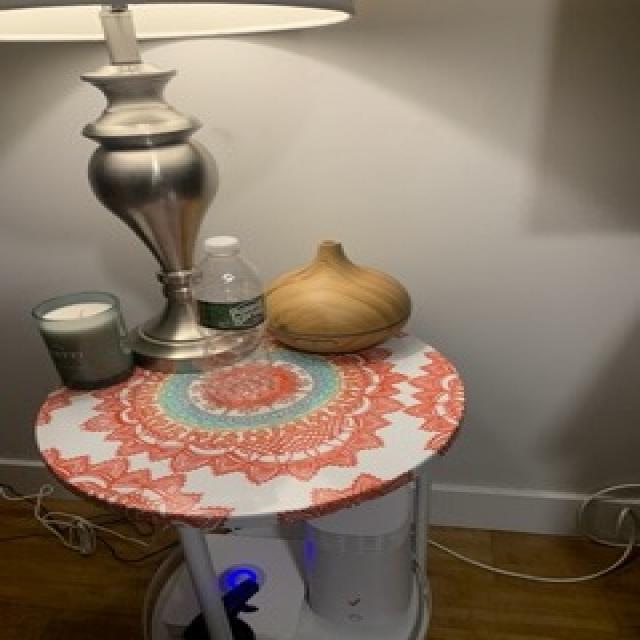water_bottle: (185, 234, 277, 404)
